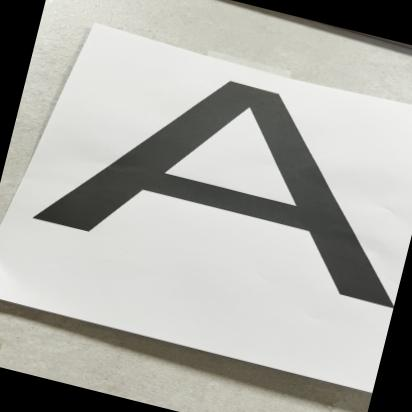seat: (0, 16, 412, 330)
